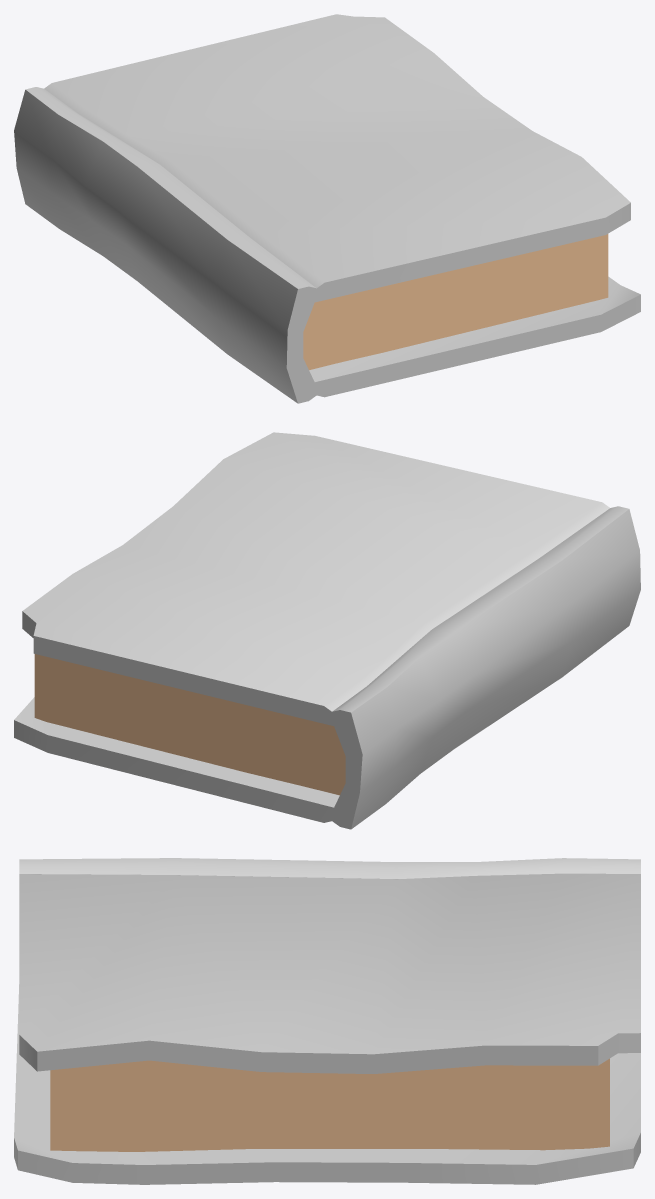
File: BookClosed.glb
The picture shows the model from 3 angles, top to bottom: view 1: azimuth 30°, elevation 25°; view 2: azimuth 150°, elevation 25°; view 3: azimuth 270°, elevation 25°; orthographic projection. The views are drawn at different scales.
Visible parts, largest first — view 1: BookClosed; view 2: BookClosed; view 3: BookClosed.
Boxes of the visible parts, x1,y1,x2,y2 form: BookClosed: (14, 14, 640, 403); BookClosed: (14, 432, 640, 829); BookClosed: (14, 858, 640, 1184).
Bounding box in the file's own units: 0.531 × 0.1724 × 0.6952.
